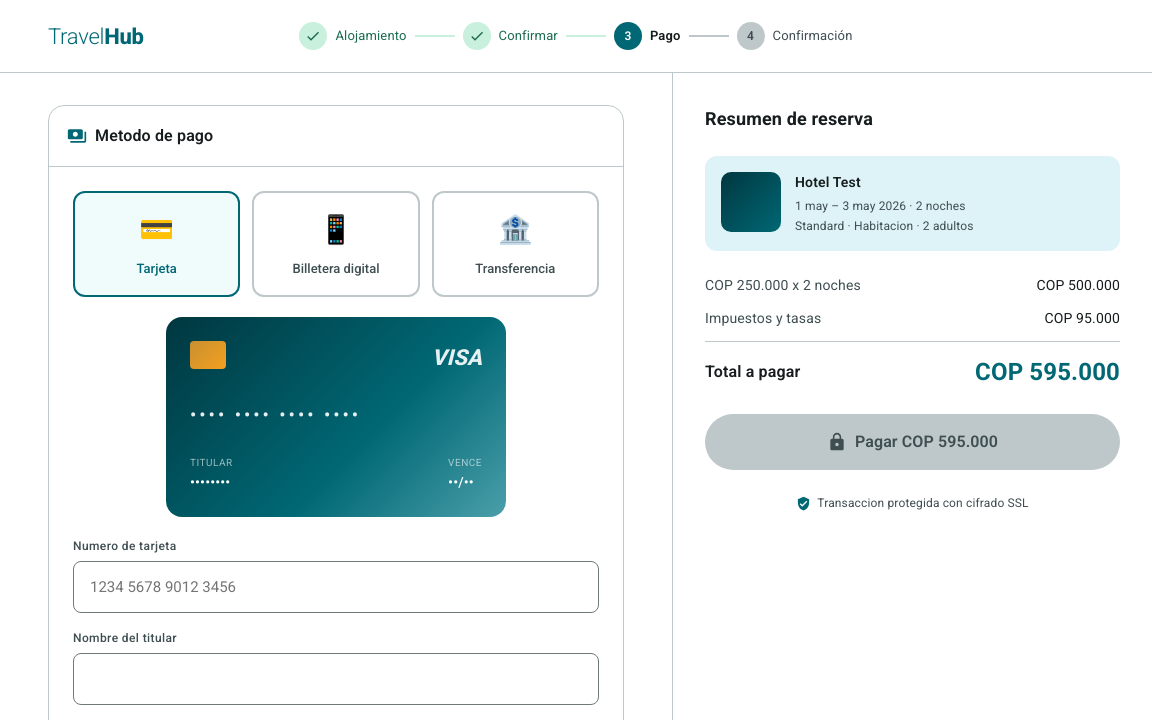
PaymentPage › switches to the transfer form when the transfer tab is selected
Click the radio button labelled "🏦 Transferencia" at (515, 244), box [432,191,599,296]
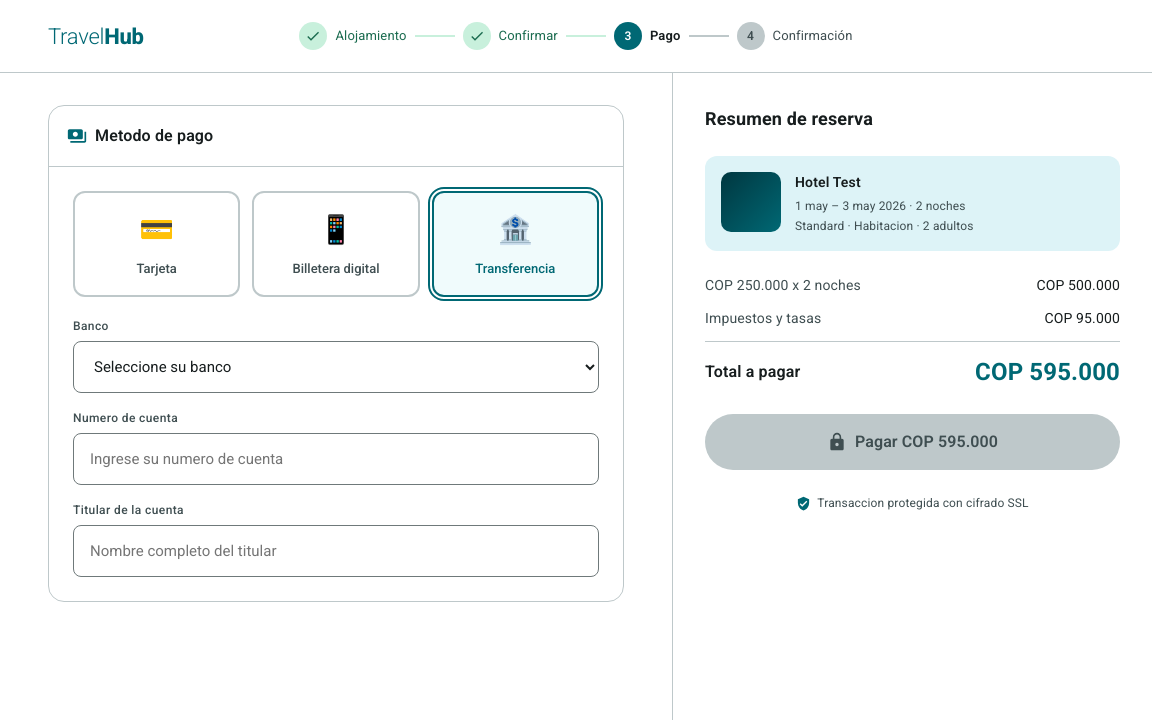
Expected: the text "Titular de la cuenta" is shown, [73,502,184,516]
Expected: the field with placeholder "Ingrese su numero de cuenta" is shown, [73,432,599,484]
Expected: the text "Numero de tarjeta" is gone
